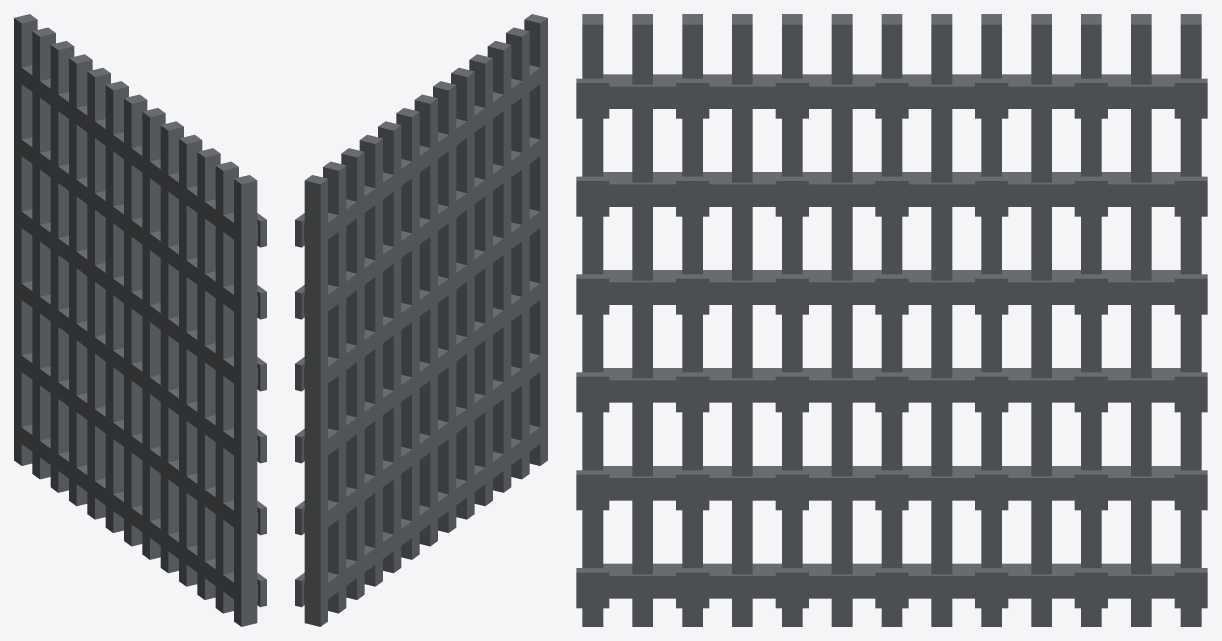
Rendered from Portcullis__Square.fbx.
The picture shows the model from 3 angles, left to right: view 1: azimuth 30°, elevation 25°; view 2: azimuth 150°, elevation 25°; view 3: azimuth 270°, elevation 25°; orthographic projection. The views are drawn at different scales.
Parts seen in each view (by area): view 1: Portcullis__Square; view 2: Portcullis__Square; view 3: Portcullis__Square.
Boxes of the visible parts, left/top/right/bottom form: Portcullis__Square: left=14, top=14, right=266, bottom=626; Portcullis__Square: left=295, top=14, right=547, bottom=626; Portcullis__Square: left=576, top=14, right=1207, bottom=626.
Size of the model in its own units: 17.5 by 320 by 304.
Materials: 1 (1 with a texture image).
